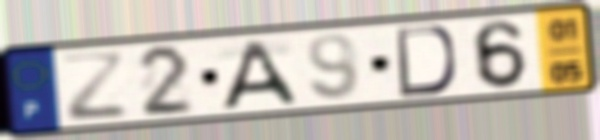2: (134, 43, 196, 119)
6: (469, 18, 530, 92)
9: (303, 32, 363, 103)
A: (216, 37, 301, 113)
D: (392, 23, 460, 100)
Z: (58, 51, 132, 124)
